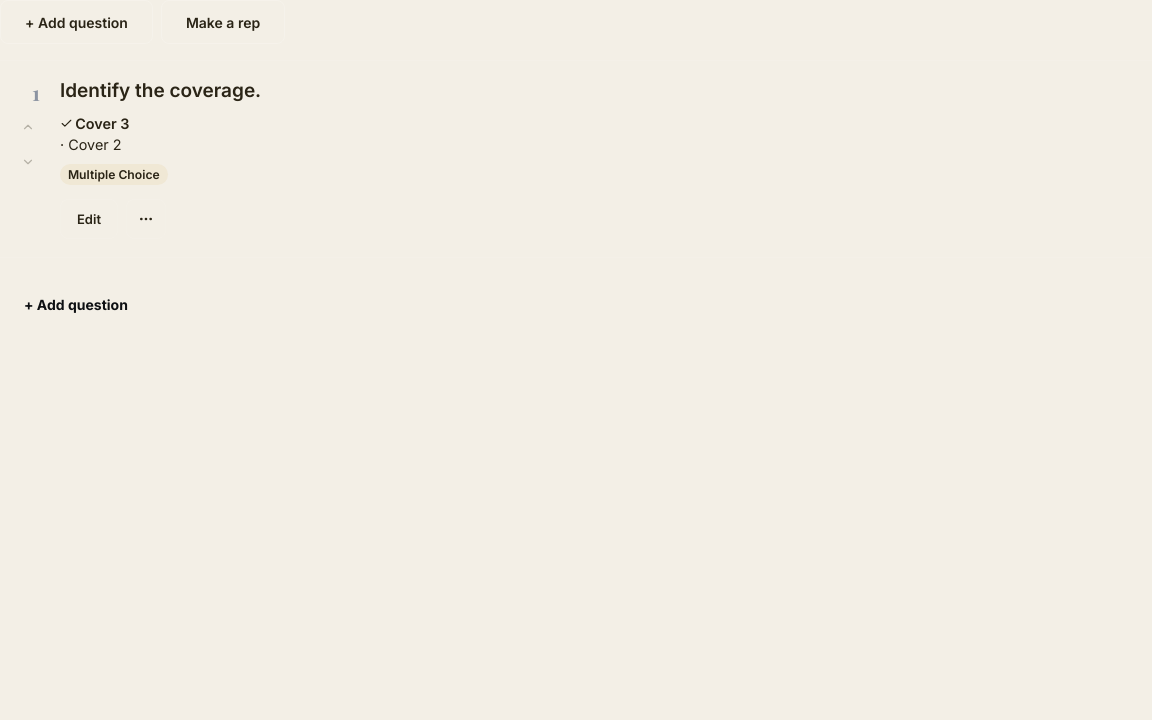
Test: Teach this, from the quiz editor › puts the question, the right answer and the coach's reason on the big screen
Step 1. Click the button named "More actions for question 1" → (146, 219), box [126,199,166,239]
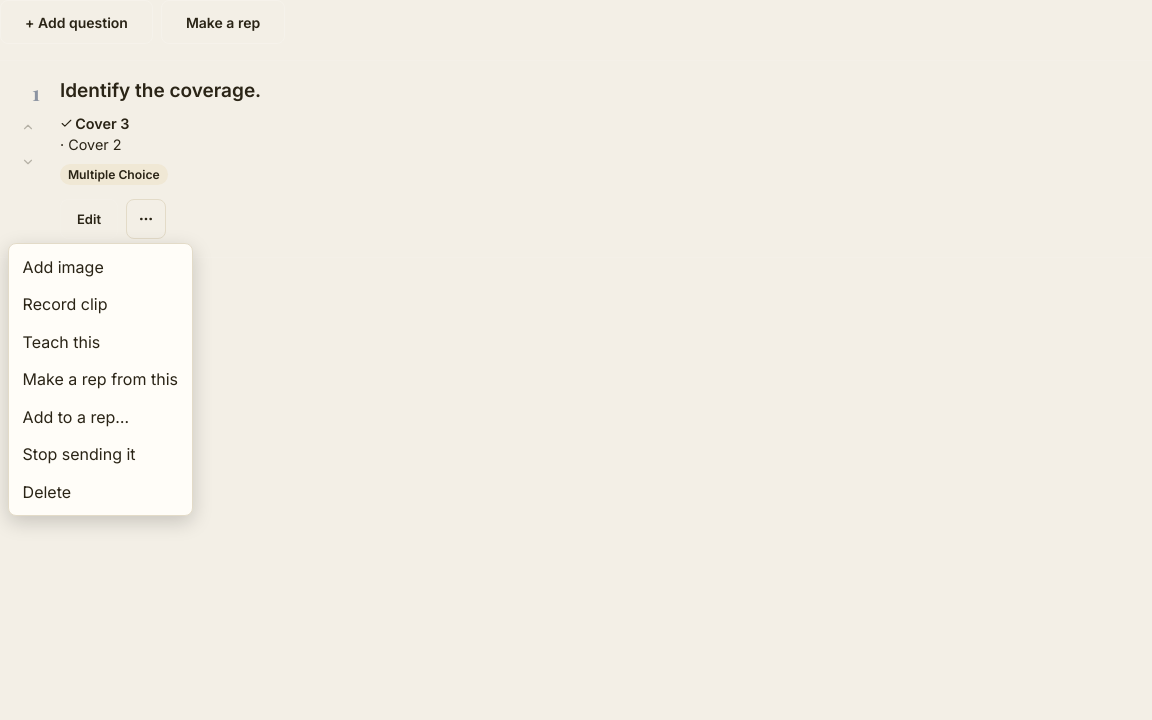
Step 2. Click the menu item "Teach this" → (100, 342), box [13,323,188,360]
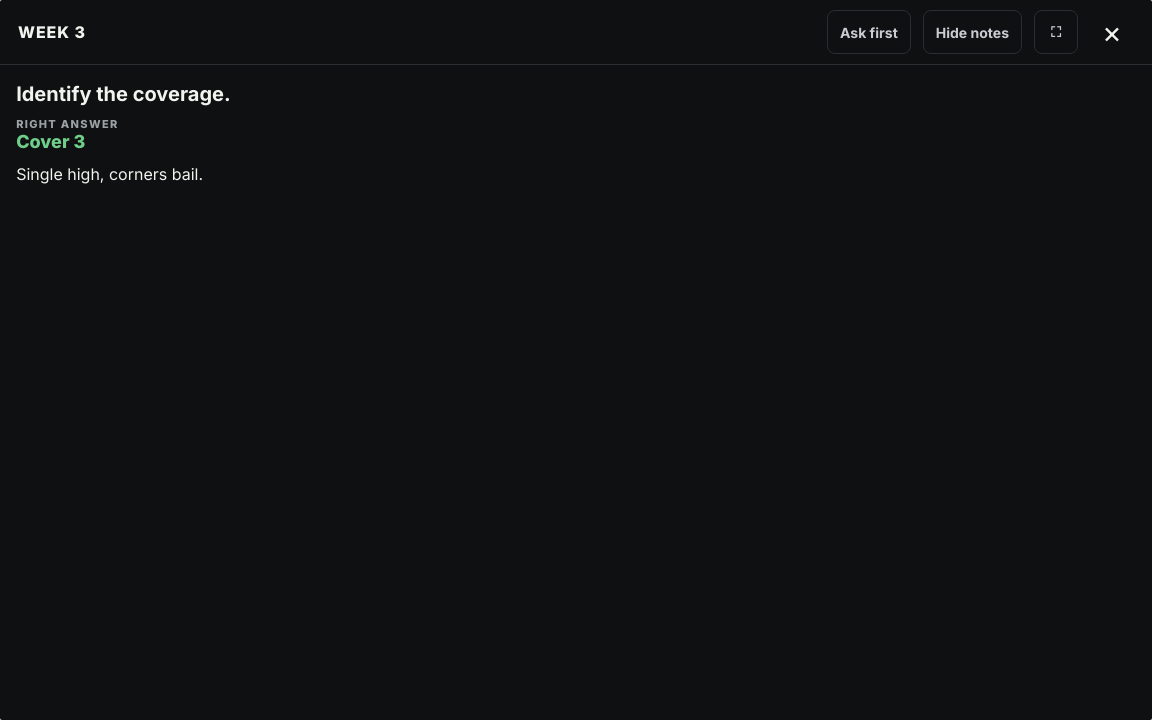
Expected: the text "Cover 3" is shown, [16,132,85,152]
Expected: the text "Single high, corners bail." is shown, [16,164,203,184]
